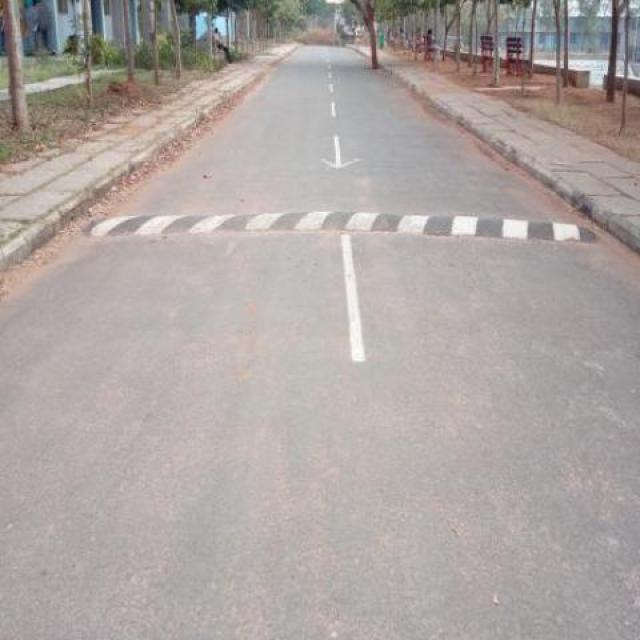Speed Bump: (85, 202, 596, 246)
